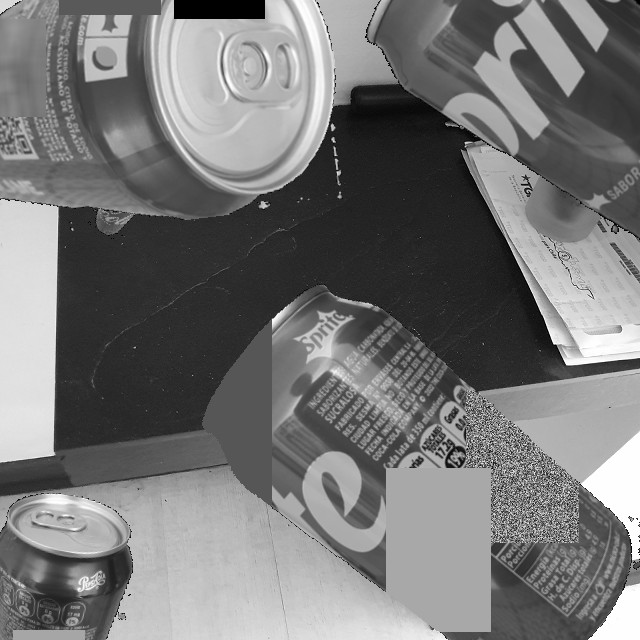coca cola: (82, 167, 152, 244)
pepsi: (0, 483, 147, 640), (492, 0, 640, 142)
sprite: (179, 257, 640, 640), (0, 0, 350, 249), (321, 0, 640, 254), (135, 87, 208, 212)
